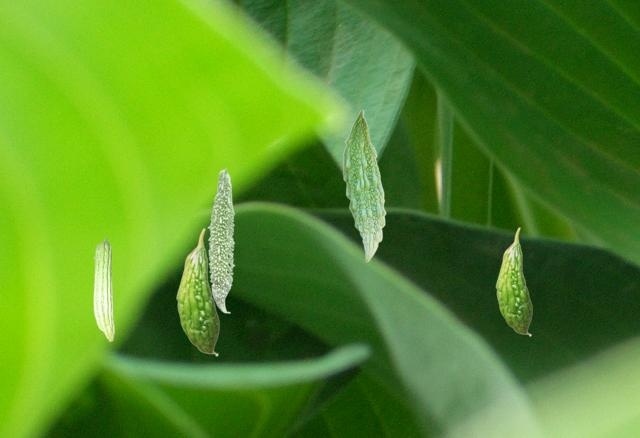ampalaya: (342, 109, 386, 262), (175, 228, 220, 356), (495, 227, 533, 336), (207, 167, 235, 313), (93, 236, 114, 342)
